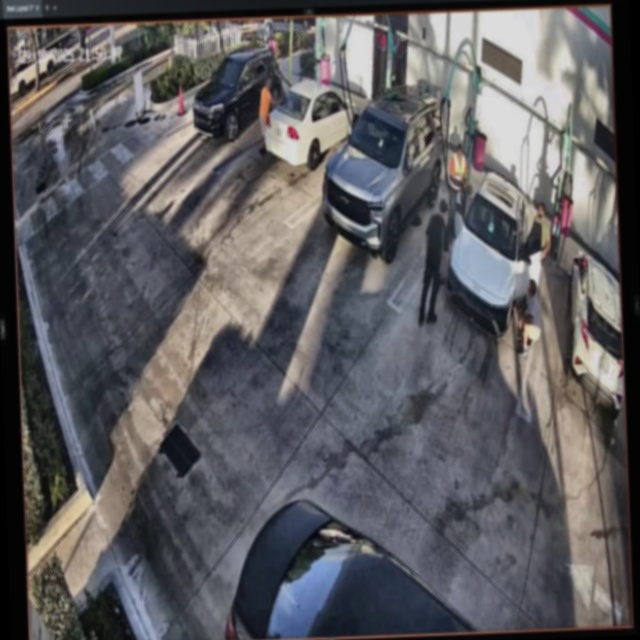Car: (319, 86, 450, 259), (442, 171, 532, 340), (265, 75, 359, 165)
